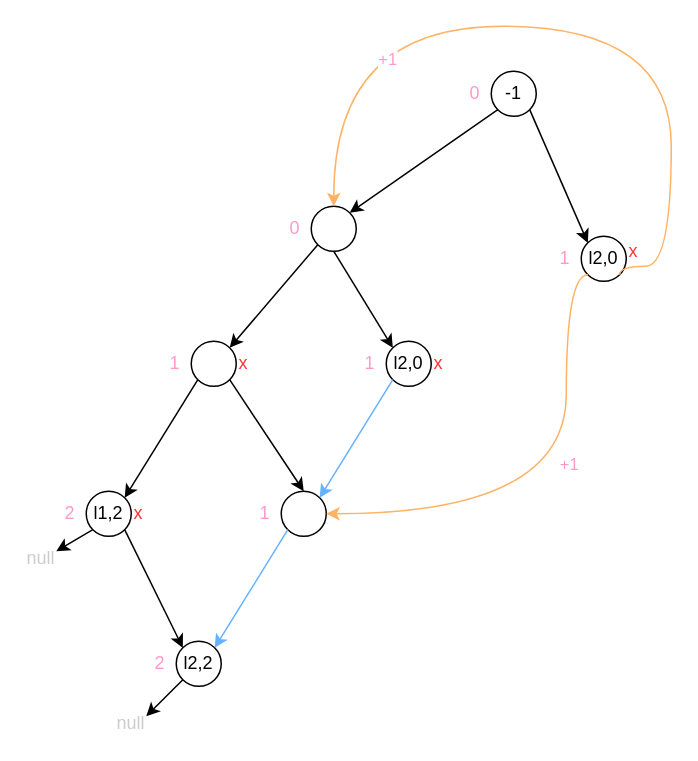
Image size: 698x761. Some labels were removed from this diagram. Each missing label, with the centre of its shape:
"l1,0" goes at point (333, 228).
"l1,1" goes at point (213, 363).
"l2,1" goes at point (303, 513).
